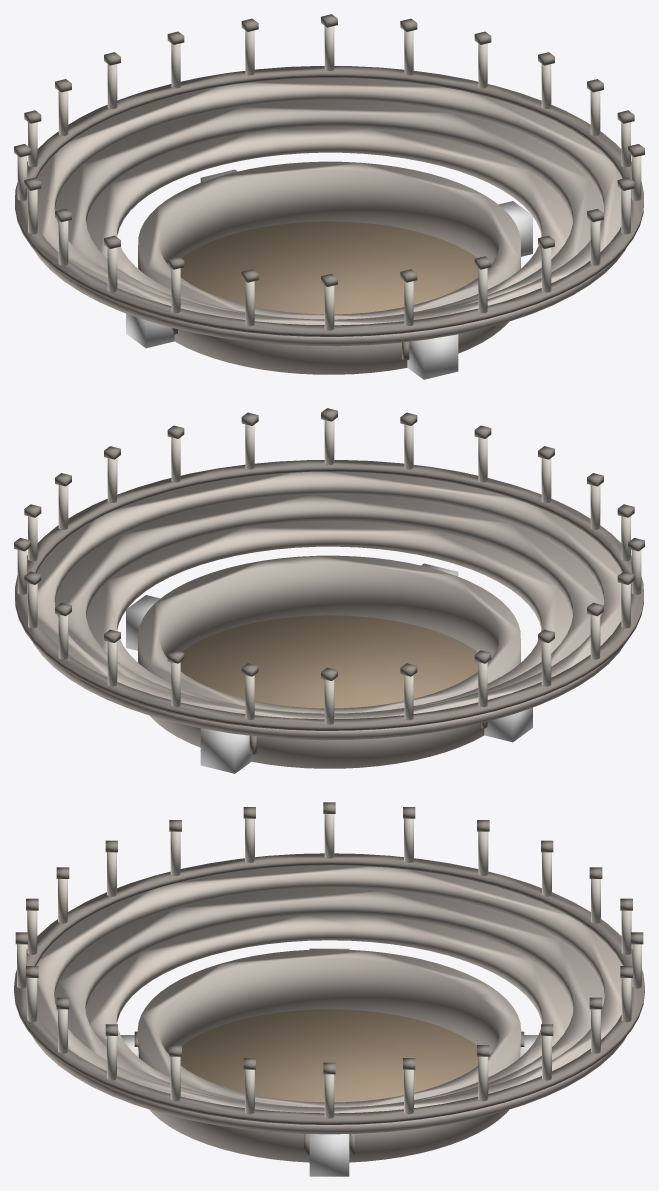
Rendered from colseuem.glb.
3 views of the same model, one above another, from view 1: azimuth 30°, elevation 25°; view 2: azimuth 150°, elevation 25°; view 3: azimuth 270°, elevation 25° (orthographic).
Parts seen in each view (by area): view 1: Pillar_17; view 2: Pillar_17; view 3: Pillar_17.
Boxes of the visible parts, <box> form: Pillar_17: <box>14,14,644,379</box>; Pillar_17: <box>14,408,644,773</box>; Pillar_17: <box>14,802,644,1176</box>.
Bounding box in the file's own units: 44.4 × 11.7 × 44.4.
